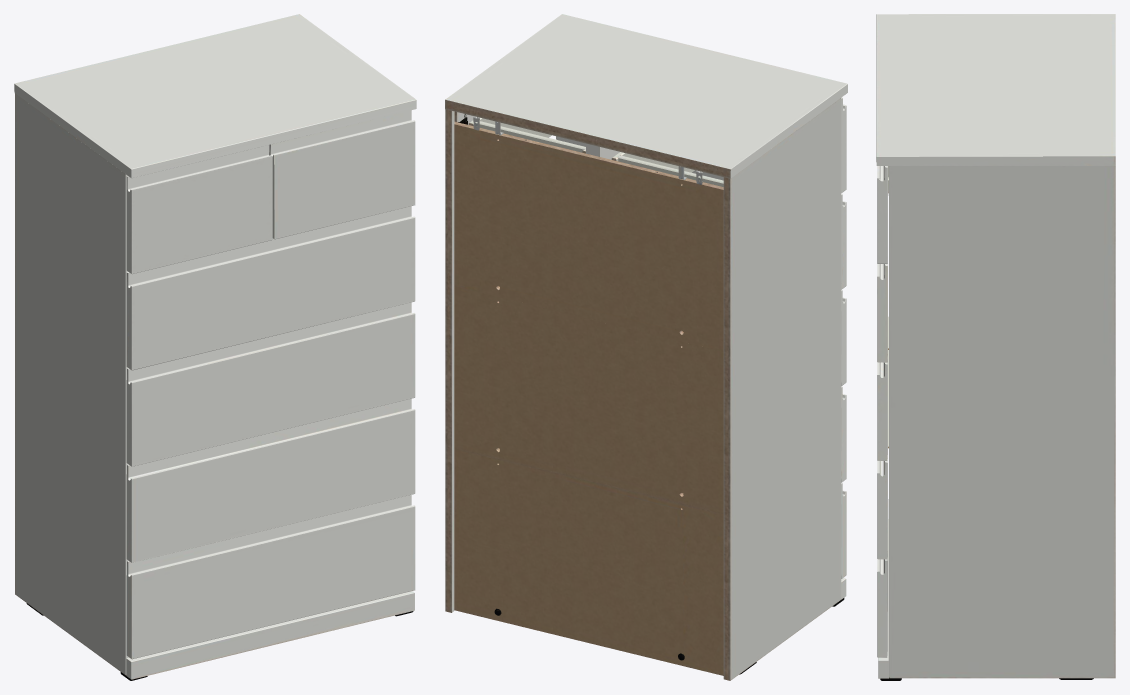
The model's file is storklinta_komoda_6_szuflad_70627545.glb.
3 renders of one model, left to right at view 1: azimuth 30°, elevation 25°; view 2: azimuth 150°, elevation 25°; view 3: azimuth 270°, elevation 25°, orthographic. The views are drawn at different scales.
Visible parts, largest first — view 1: storklinta_komoda_6_szuflad_70627545; view 2: storklinta_komoda_6_szuflad_70627545; view 3: storklinta_komoda_6_szuflad_70627545.
Boxes of the visible parts, x1,y1,x2,y2 form: storklinta_komoda_6_szuflad_70627545: [14, 14, 416, 680]; storklinta_komoda_6_szuflad_70627545: [445, 14, 847, 680]; storklinta_komoda_6_szuflad_70627545: [876, 14, 1115, 680].
Bounding box in the file's own units: 0.699 × 1.2 × 0.4963.
1 material, 1 textured.
